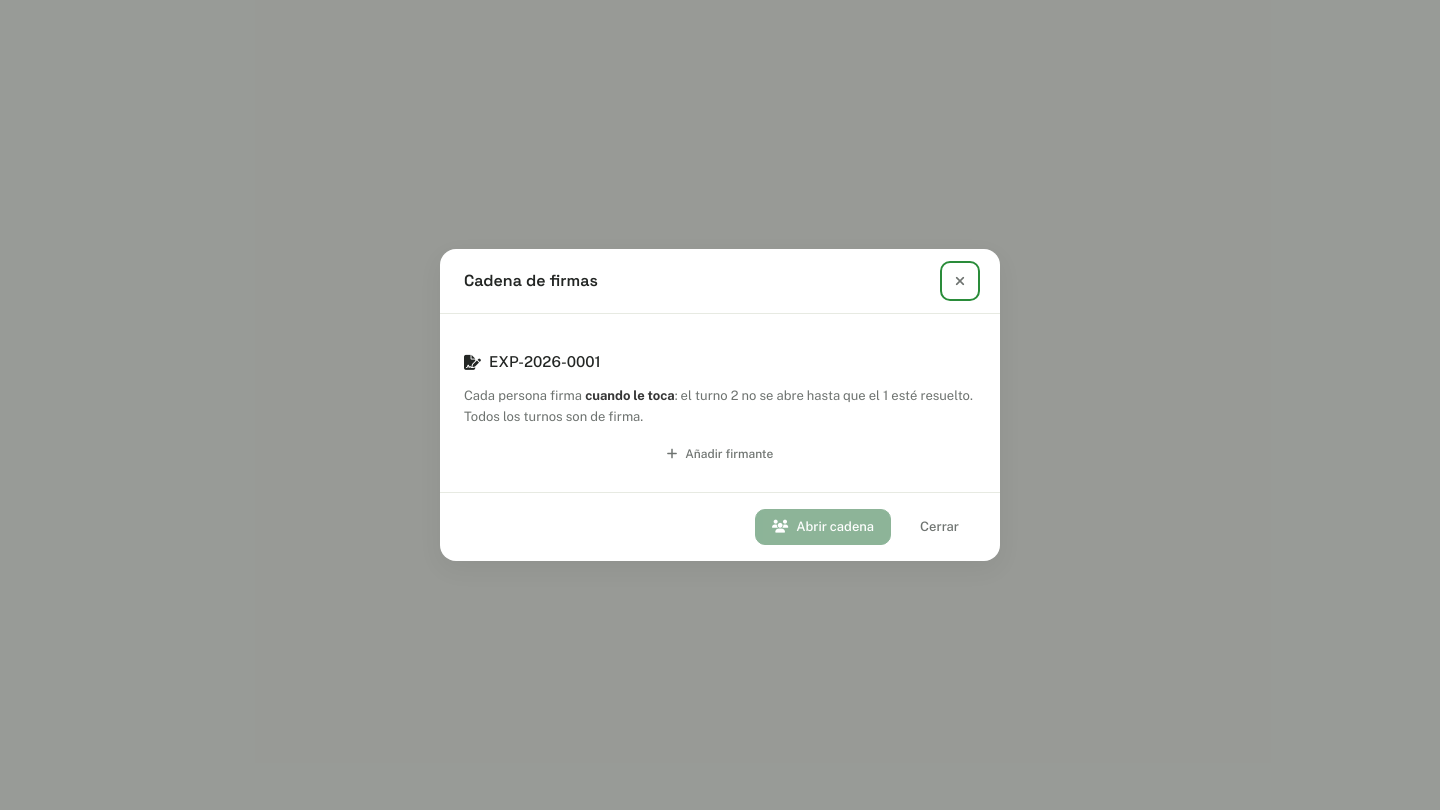
Scenario: CadenaFirmaModal › un rechazo del backend se enseña y no se da por creada
The image size is (1440, 810).
expect the text "cuando le toca" is shown: met, box [585,388,675,403]
Click the button named "Añadir firmante" below "Cada persona firma" at [720, 454], box [464,440,976,468]
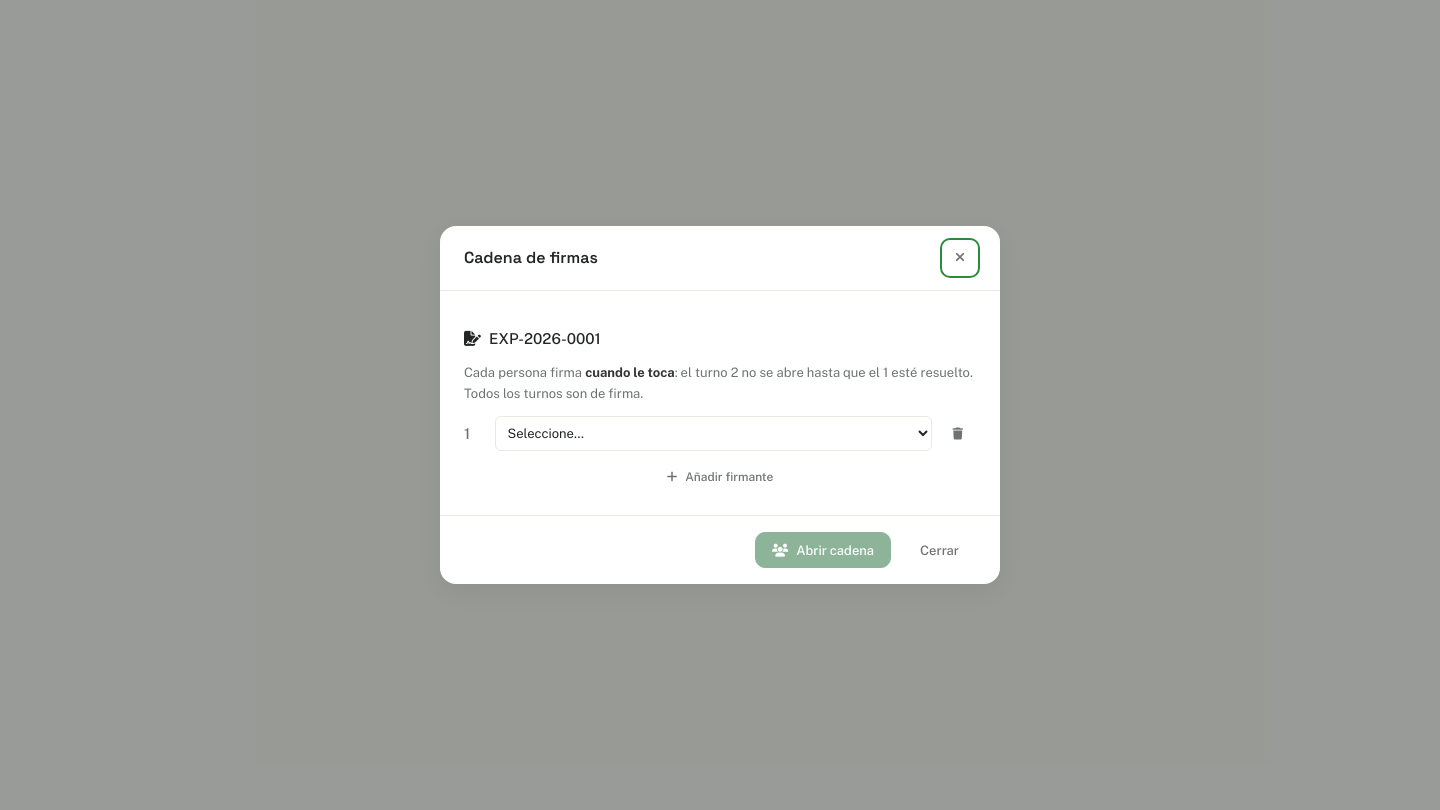
Select "Ana Restrepo" in the dropdown named "Firmante del turno 1" at [713, 434], box [494,416,932,451]
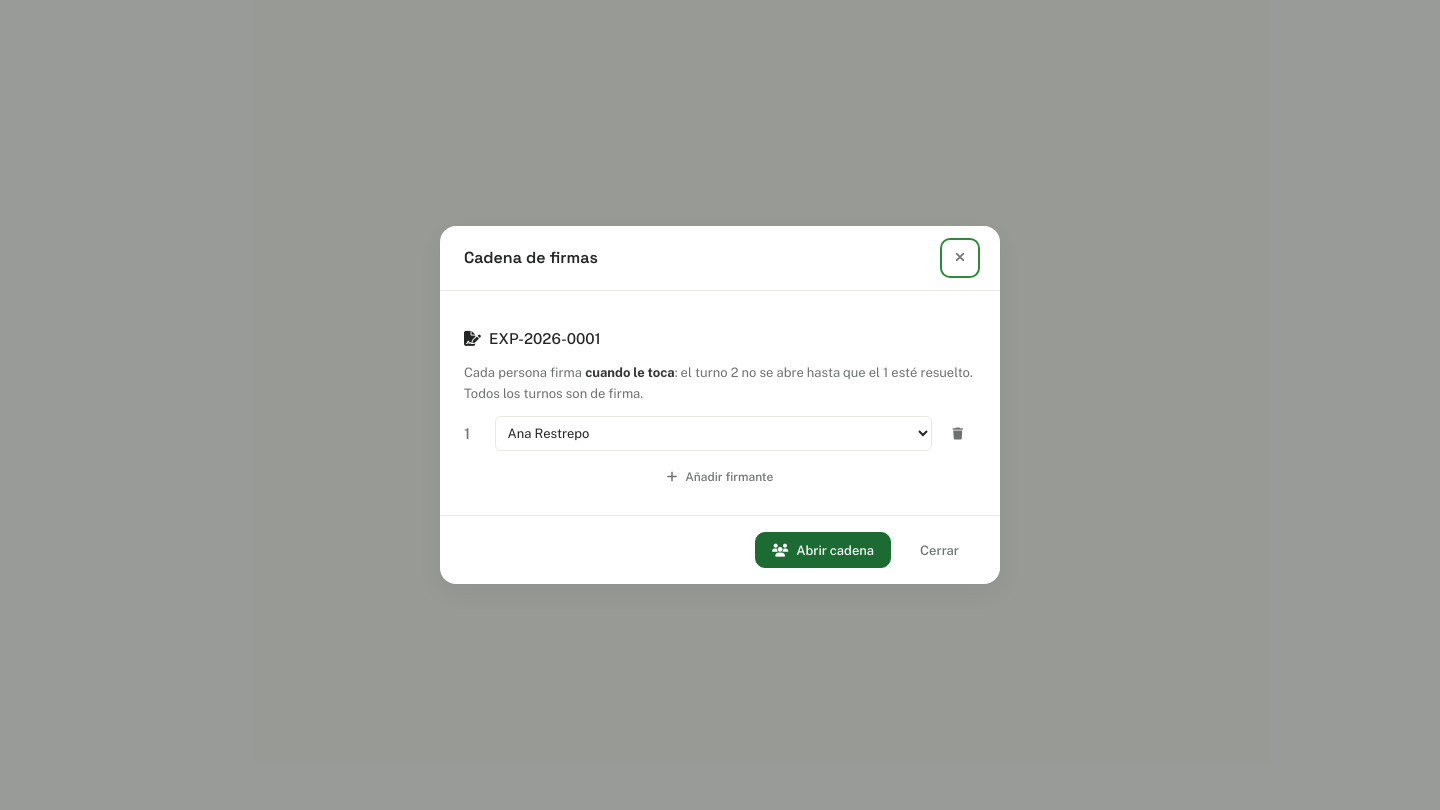
Click the 3rd button named "Abrir cadena" at [823, 550], box [755,532,891,568]
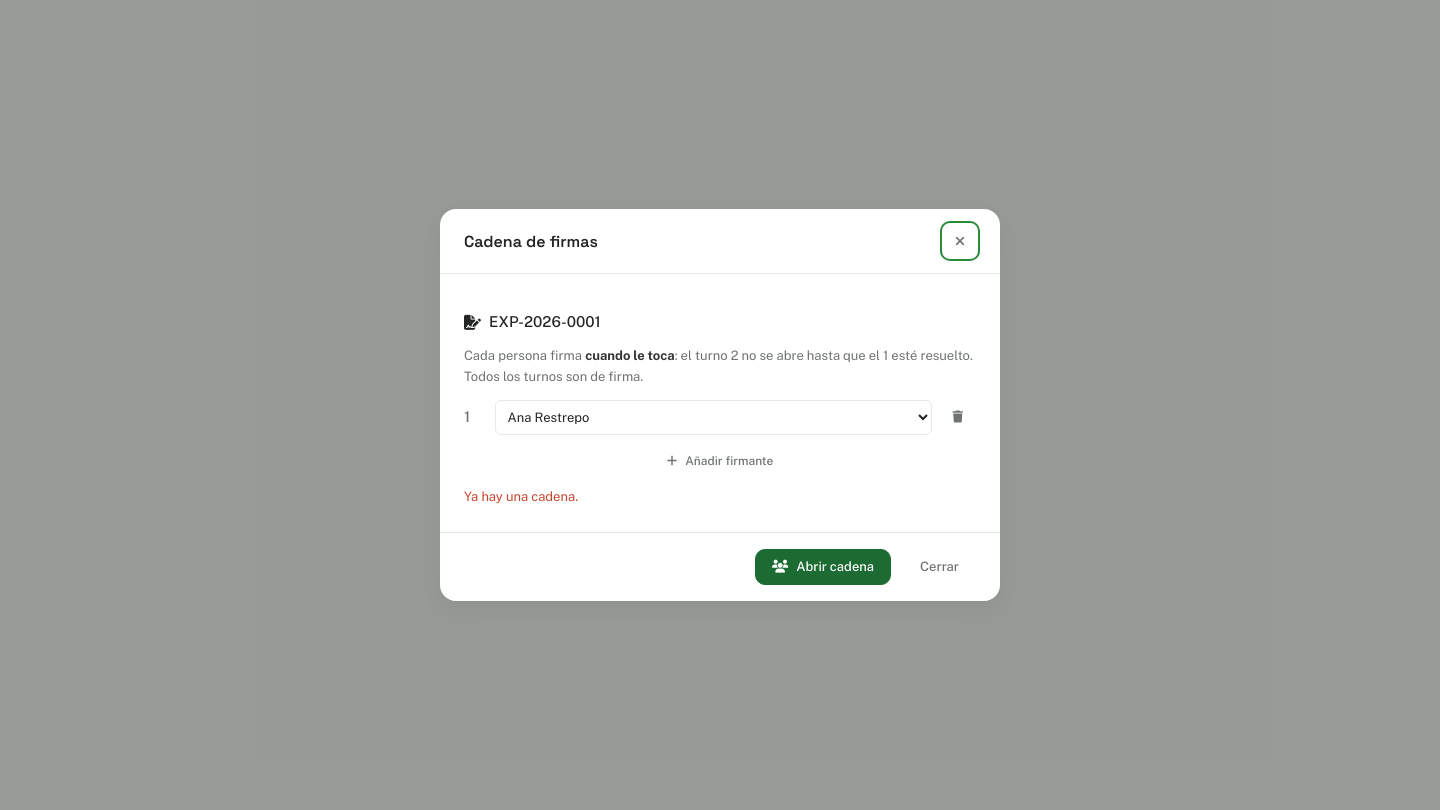
expect the message shows "Ya hay una cadena": met, box [464,489,578,504]
